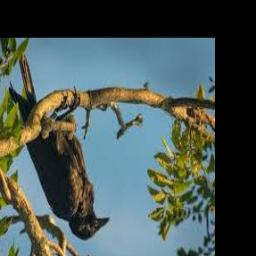Crow: (9, 54, 110, 241)
